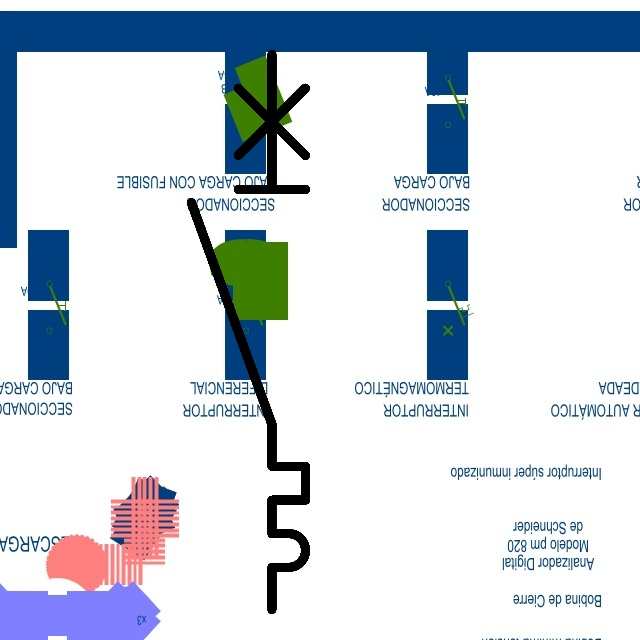interruptor_termomagnetico: (177, 40, 320, 624)
